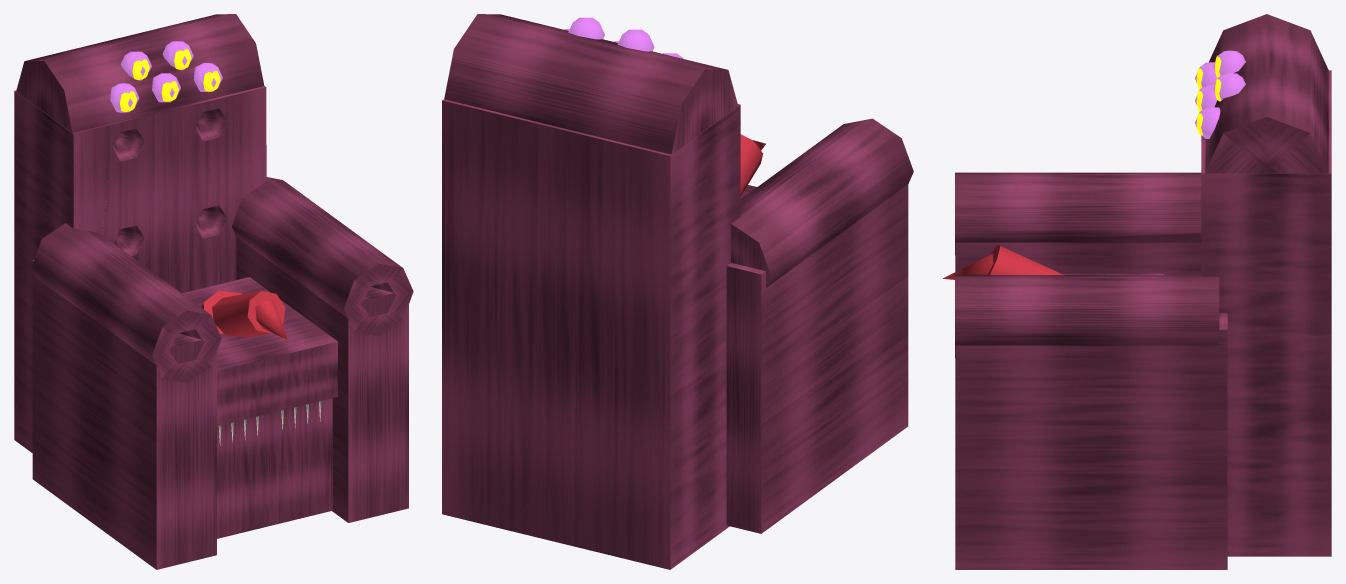
Rendered from sofa.gltf.
The picture shows the model from 3 angles, left to right: view 1: azimuth 30°, elevation 25°; view 2: azimuth 150°, elevation 25°; view 3: azimuth 270°, elevation 25°; orthographic projection. The views are drawn at different scales.
Visible parts, largest first — view 1: CSGBox3D2, CSGBox3D6, CSGCylinder3D8, Eye32, Eye2, Eye23, Eye42, Eye52; view 2: CSGBox3D2, CSGCylinder3D8, Eye52, Eye42; view 3: CSGBox3D2, CSGCylinder3D8, Eye42, Eye52, Eye23.
Boxes of the visible parts, <box> form: CSGBox3D2: <box>14,14,413,569</box>; CSGBox3D6: <box>182,277,337,426</box>; CSGCylinder3D8: <box>201,290,287,339</box>; Eye32: <box>110,83,139,112</box>; Eye2: <box>152,73,180,102</box>; Eye23: <box>193,63,222,92</box>; Eye42: <box>162,41,193,70</box>; Eye52: <box>121,51,151,80</box>; CSGBox3D2: <box>442,14,913,569</box>; CSGCylinder3D8: <box>740,134,765,196</box>; Eye52: <box>617,29,654,51</box>; Eye42: <box>568,17,604,39</box>; CSGBox3D2: <box>955,14,1331,569</box>; CSGCylinder3D8: <box>943,244,1063,279</box>; Eye42: <box>1213,73,1245,101</box>; Eye52: <box>1213,50,1245,77</box>; Eye23: <box>1195,107,1220,138</box>.
Bounding box in the file's own units: 1.88 × 2.78 × 2.21.
8 materials, 3 textured.
